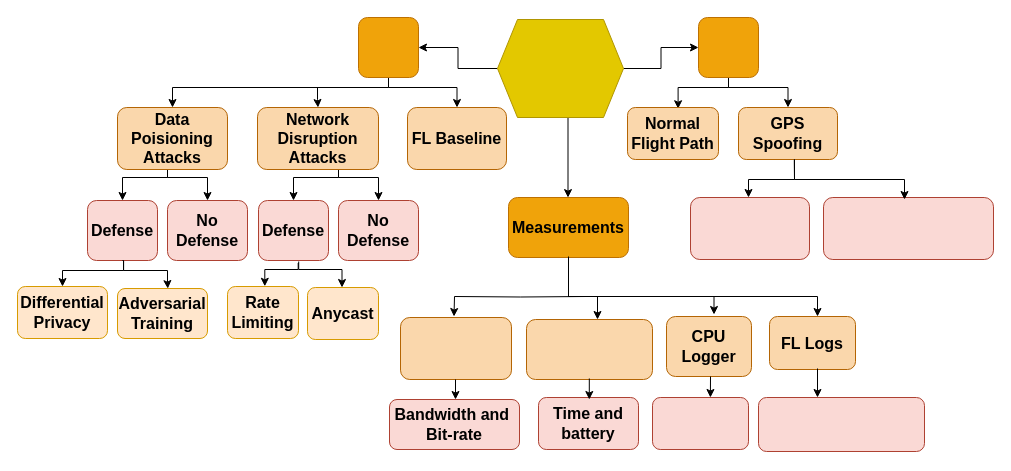
The diagram is 1011 pixels wide and 471 high, and some of its shapes have lost their labels. Each missing label, with the centre of its shape:
"Evaluation / Training Times and Results" goes at (841,424).
"FL" goes at (388,47).
"Flight" goes at (728,47).
"Go back to indended path and resume mission" goes at (908,228).
"Go to safe position and land" goes at (750,228).
"IPerf traffic" goes at (456,348).
"Memory and CPU Usage" goes at (700,423).
"Portable node testing options" goes at (560,68).
"QGroudControl" goes at (589,349).
